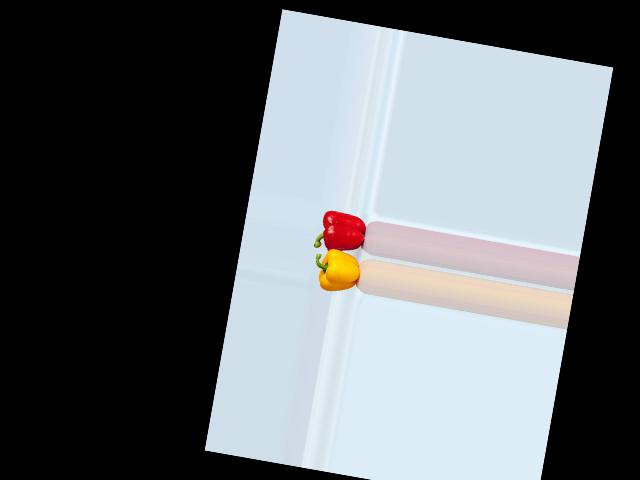bell_pepper: (314, 205, 373, 257)
